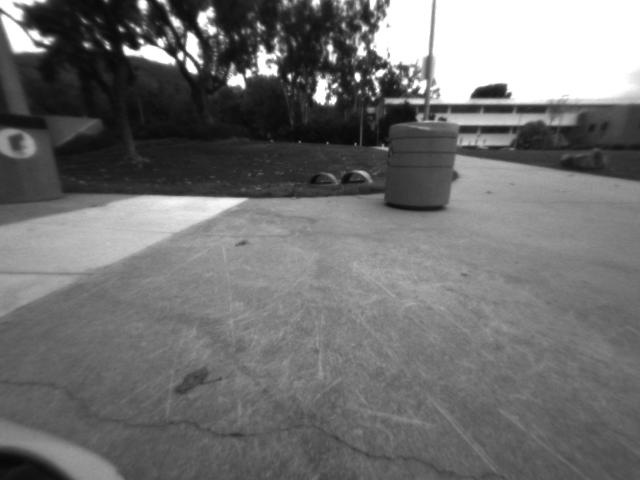trashcan: (382, 112, 461, 221), (1, 109, 68, 212)
